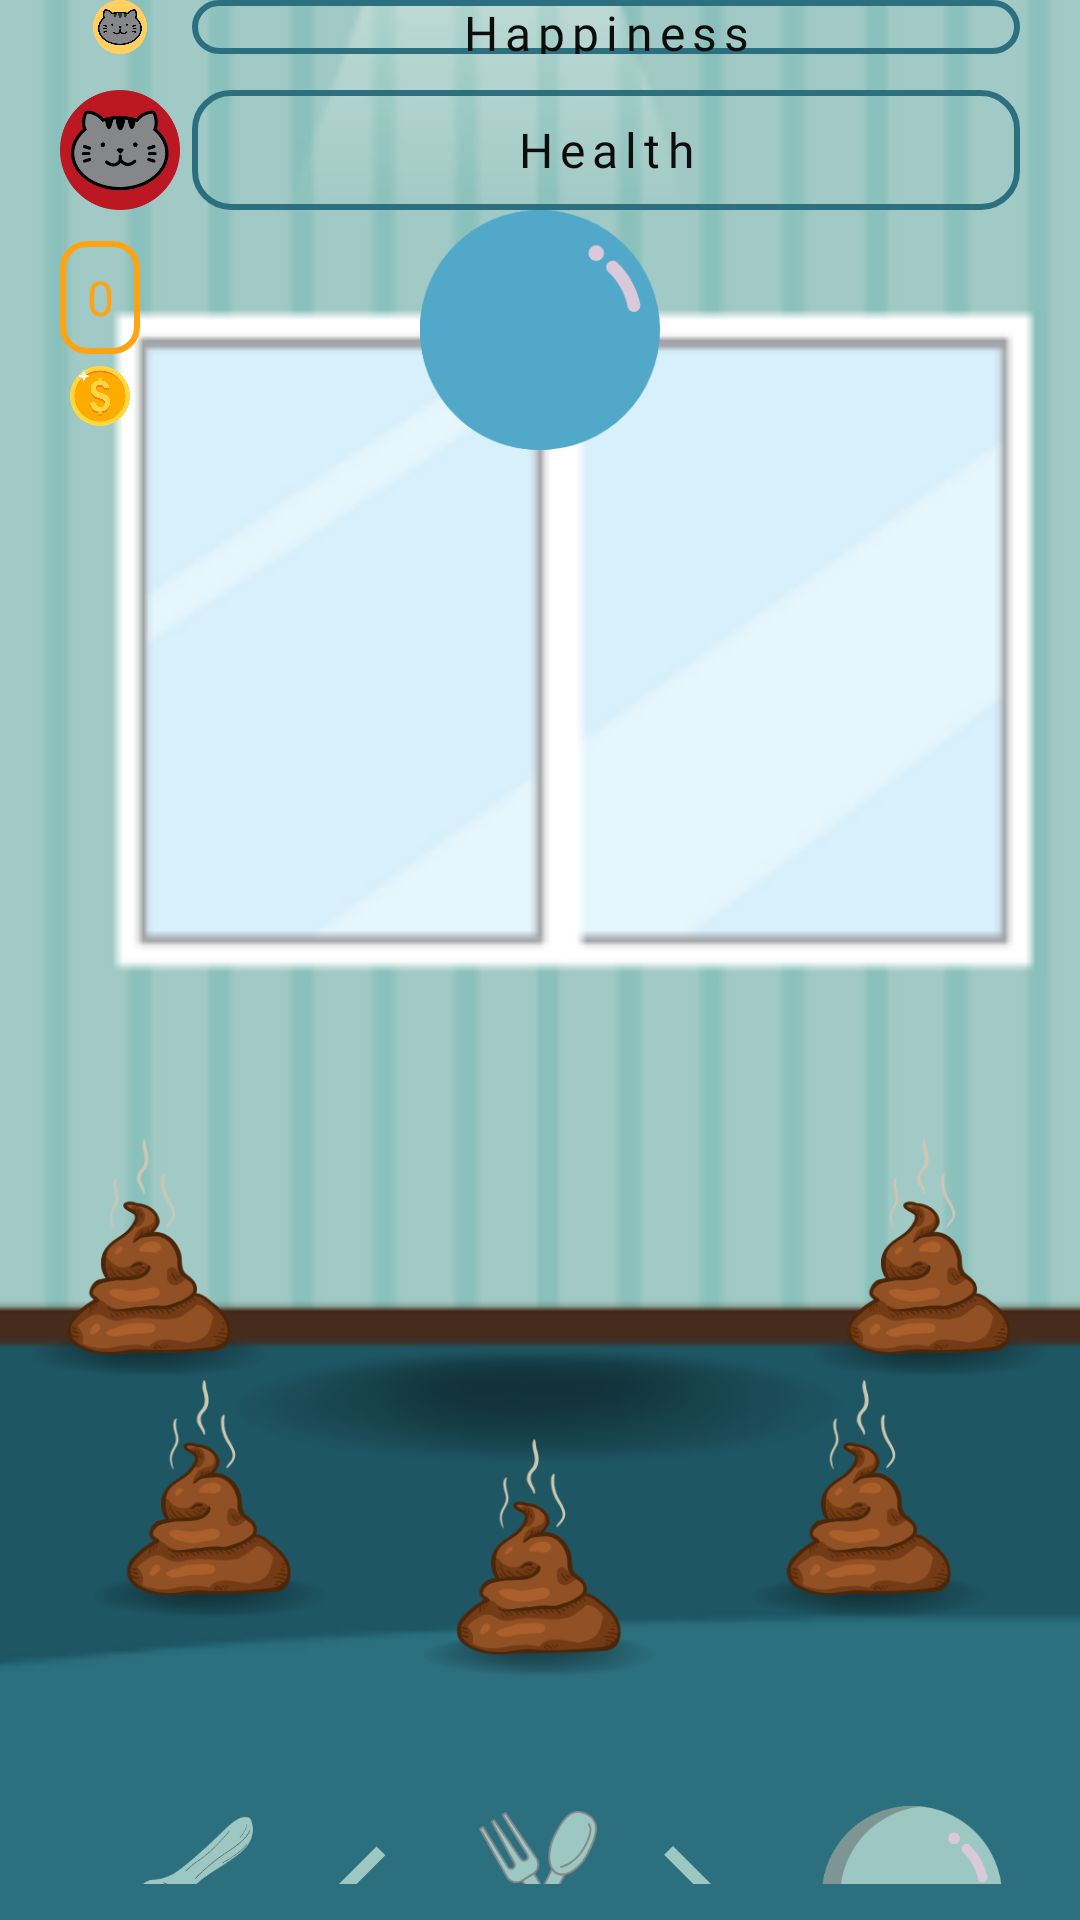

Icon click points for this 1080w x 1920h phone screenshot, format (x,y):
coin: (100,396)
playball: (540,330)
shit happen: (150,1259), (930,1259), (209,1493), (869,1493), (540,1559)
